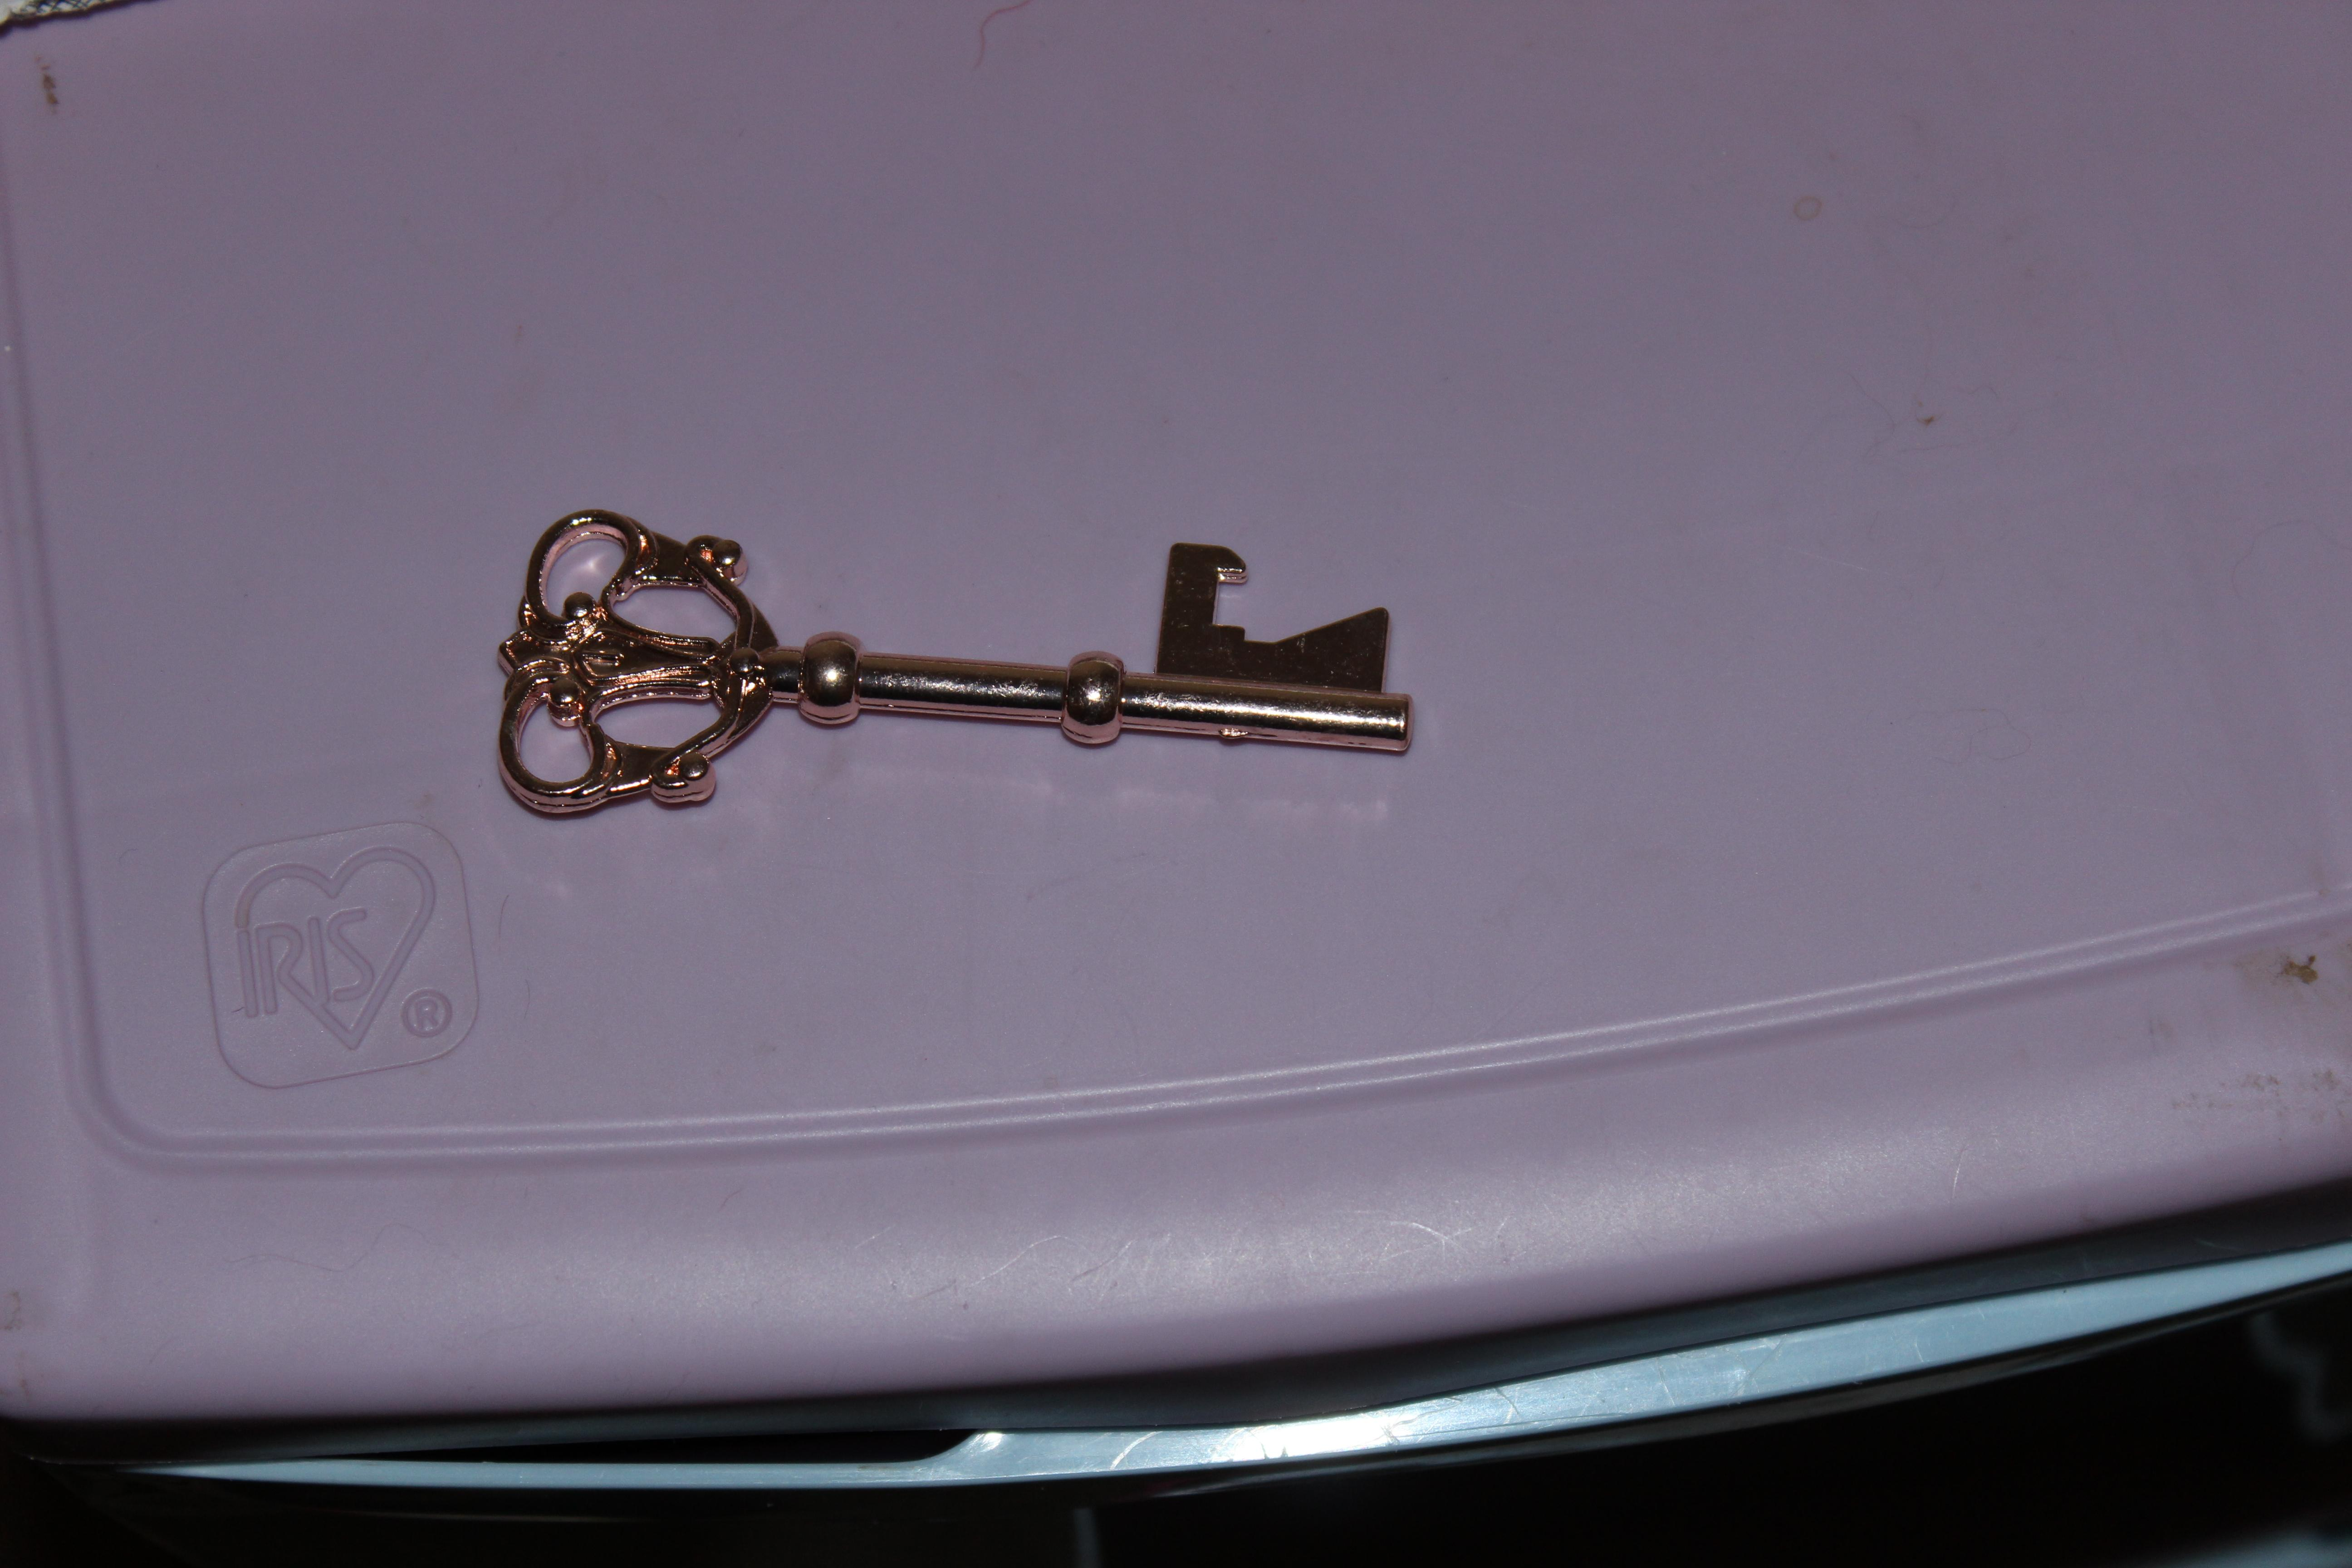metalKey: (464, 458, 1445, 878)
